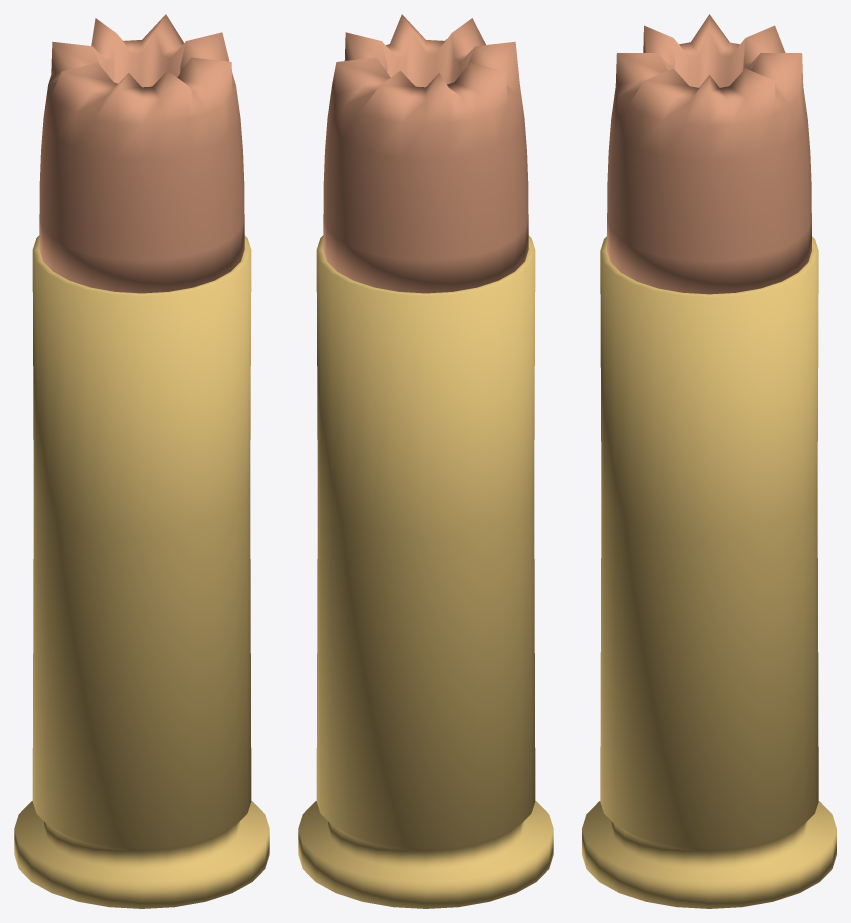
3 views of the same model, side by side, from view 1: azimuth 30°, elevation 25°; view 2: azimuth 150°, elevation 25°; view 3: azimuth 270°, elevation 25° (orthographic).
Visible parts, largest first — view 1: vaina, bala_flor; view 2: vaina, bala_flor; view 3: vaina, bala_flor.
Part boxes in pixels (x1,y1,x2,y2): vaina: [14, 235, 269, 908]; bala_flor: [39, 14, 244, 293]; vaina: [298, 235, 553, 908]; bala_flor: [323, 14, 528, 293]; vaina: [582, 236, 836, 908]; bala_flor: [607, 14, 811, 294].
Size of the model in its own units: 0.0112 by 0.0389 by 0.0112.
